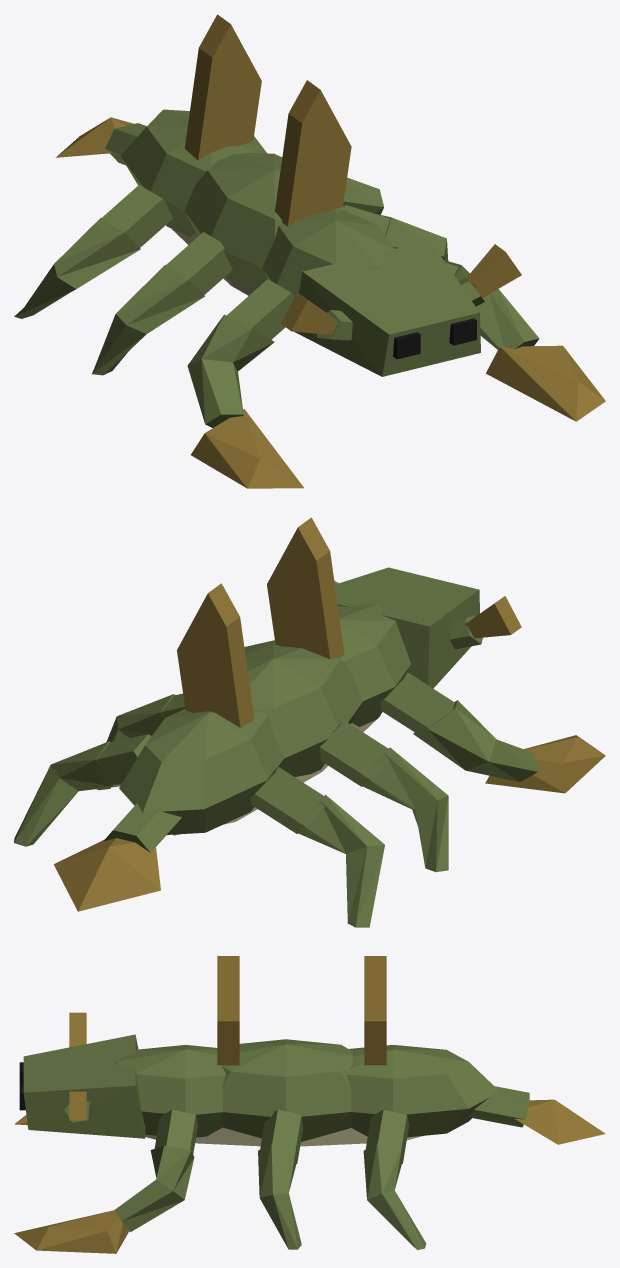
The model's file is bolegraze.glb.
3 renders of one model, top to bottom at view 1: azimuth 30°, elevation 25°; view 2: azimuth 150°, elevation 25°; view 3: azimuth 270°, elevation 25°, orthographic. The views are drawn at different scales.
Visible parts, largest first — view 1: Bolegraze; view 2: Bolegraze; view 3: Bolegraze.
Boxes of the visible parts, x1,y1,x2,y2 form: Bolegraze: (14,14,605,488); Bolegraze: (14,517,605,927); Bolegraze: (14,956,605,1253).
Size of the model in its own units: 0.66 by 0.46 by 1.1.
